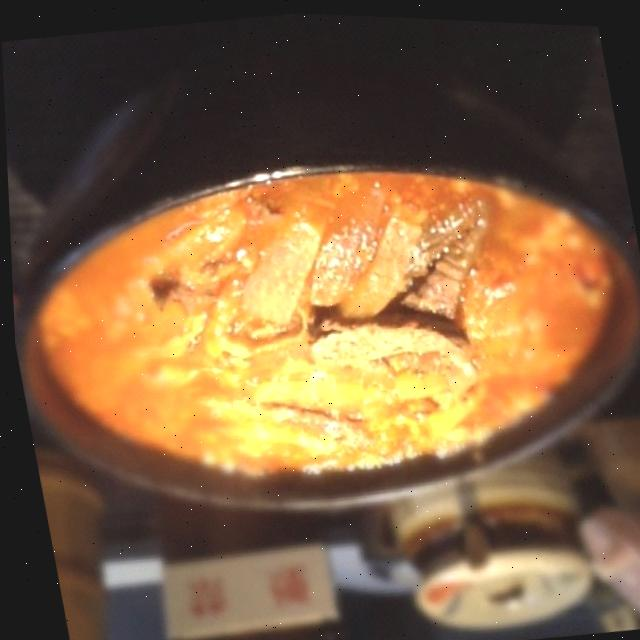汤锅炖物: (0, 10, 640, 639)
